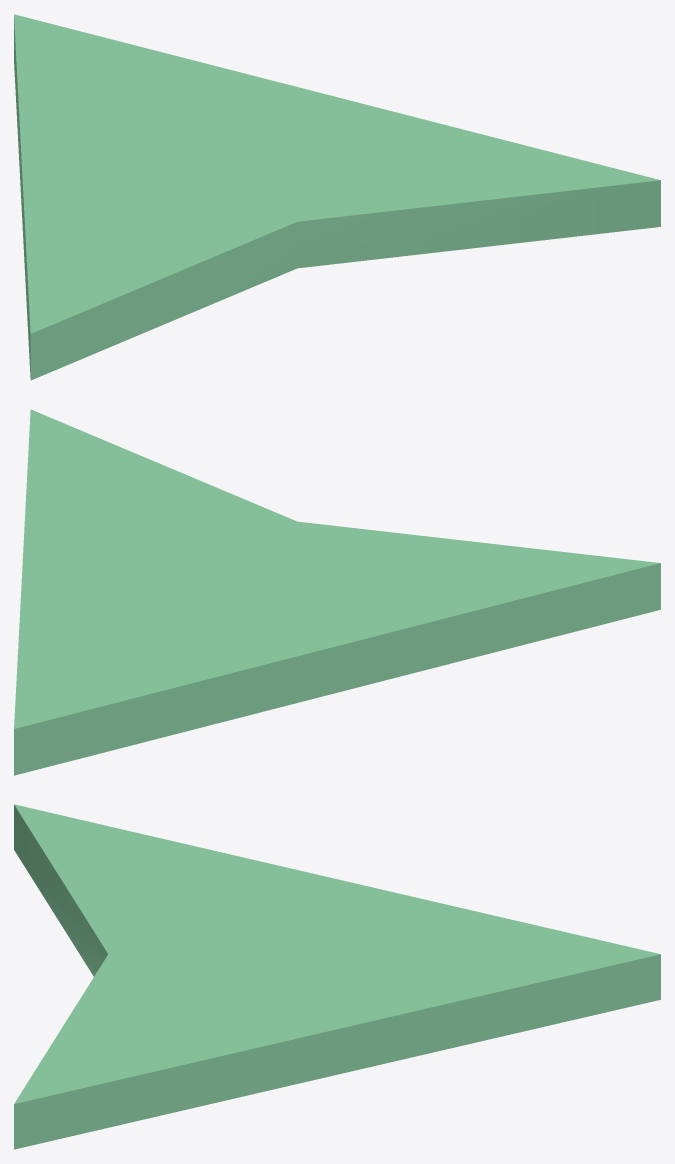
The picture shows the model from 3 angles, top to bottom: view 1: azimuth 30°, elevation 25°; view 2: azimuth 150°, elevation 25°; view 3: azimuth 270°, elevation 25°; orthographic projection. The views are drawn at different scales.
Parts seen in each view (by area): view 1: 立方体; view 2: 立方体; view 3: 立方体.
Part boxes in pixels (bbox=[...]): 立方体: bbox=[14, 14, 660, 380]; 立方体: bbox=[14, 409, 660, 775]; 立方体: bbox=[14, 804, 660, 1149].
Bounding box in the file's own units: 283 × 20.01 × 258.
